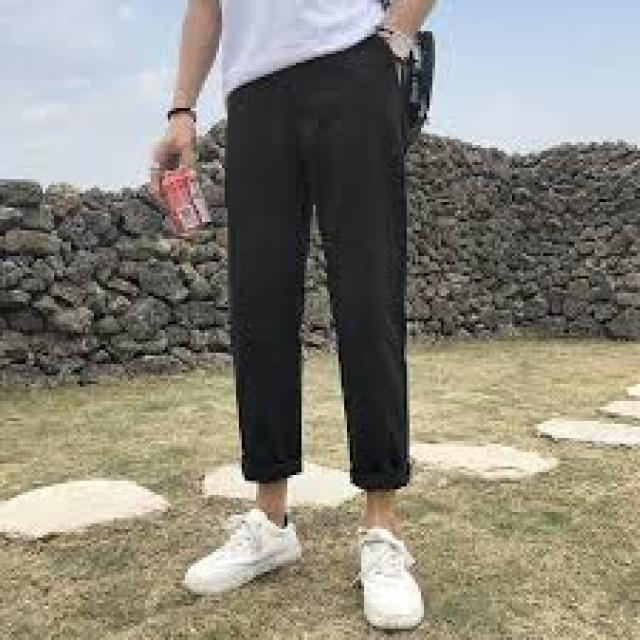pants: (220, 45, 422, 505)
